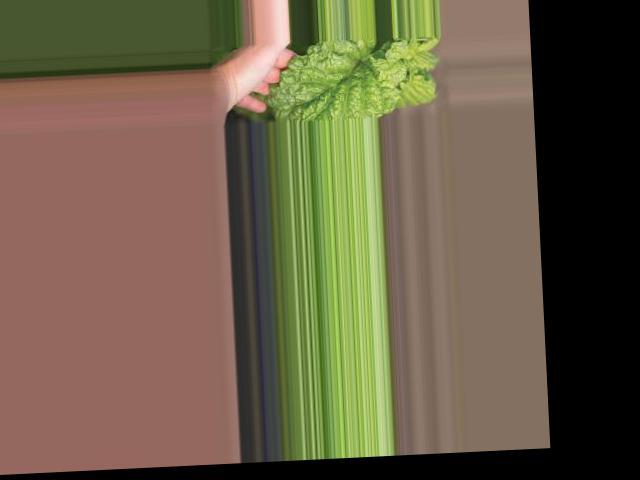lettuce: (269, 34, 453, 122)
